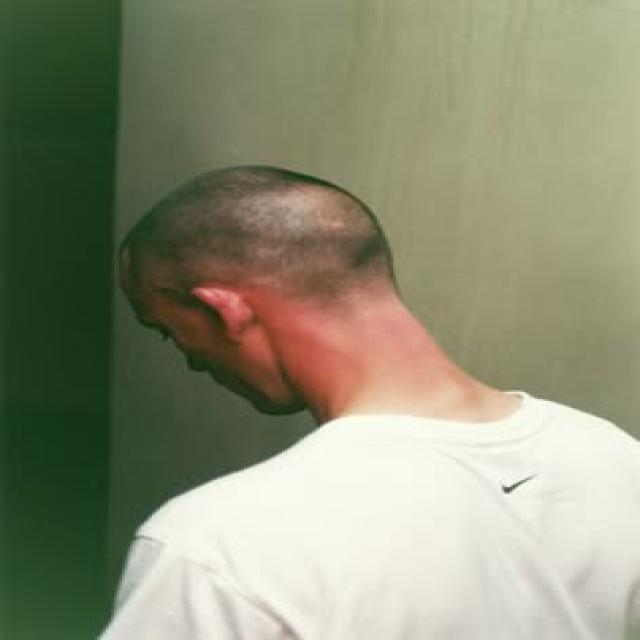9_cabeza_baja: (114, 163, 485, 423)
